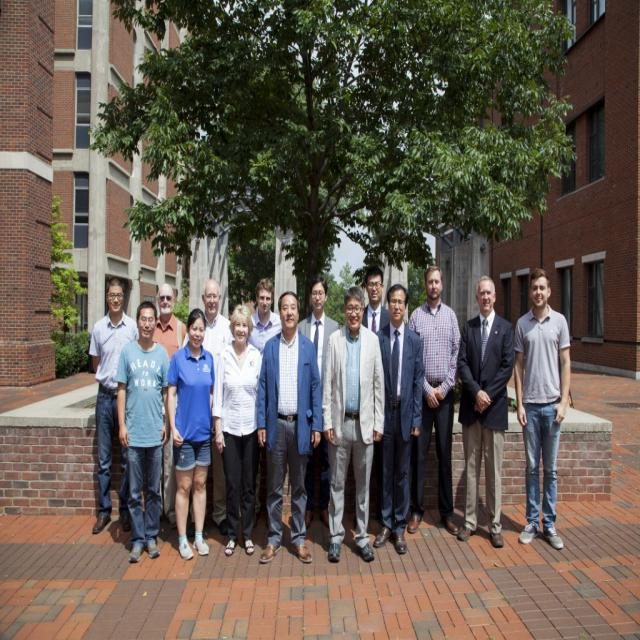body: (255, 288, 322, 566), (320, 284, 386, 565), (112, 296, 178, 563), (512, 264, 572, 552), (406, 259, 466, 536), (458, 274, 514, 548), (372, 282, 425, 556), (181, 277, 236, 538), (166, 306, 220, 560), (88, 276, 140, 537), (210, 302, 263, 558), (297, 276, 341, 530), (152, 281, 188, 529), (246, 275, 284, 358), (361, 265, 391, 334), (426, 428, 442, 525)
